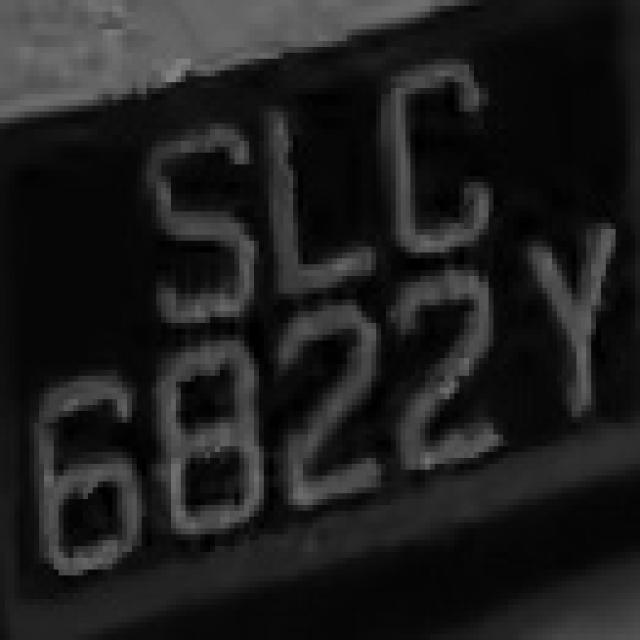2: (386, 270, 503, 523), (278, 282, 396, 522)
6: (19, 346, 137, 599)
8: (156, 329, 278, 534)
C: (386, 59, 503, 282)
L: (249, 88, 381, 311)
S: (127, 88, 264, 346)
Y: (508, 200, 625, 440)
